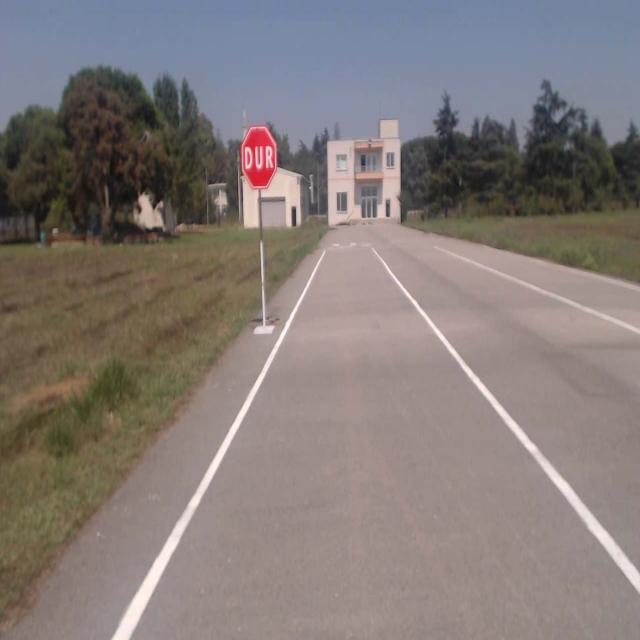dur: (240, 128, 278, 189)
